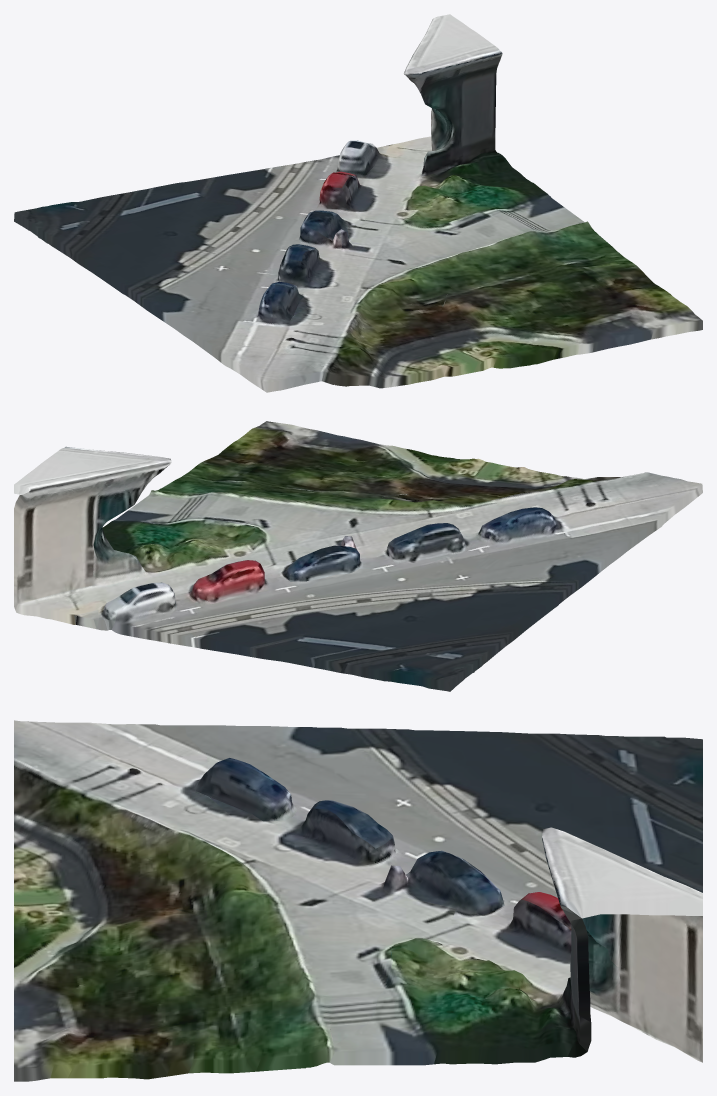
File: z20-167734-405195-h0-yup-uvflip-v3-world.glb
The picture shows the model from 3 angles, top to bottom: view 1: azimuth 30°, elevation 25°; view 2: azimuth 150°, elevation 25°; view 3: azimuth 270°, elevation 25°; orthographic projection. The views are drawn at different scales.
Bounding box in the file's own units: 30.2 × 9.16 × 30.32.
Materials: 1 (1 with a texture image).
